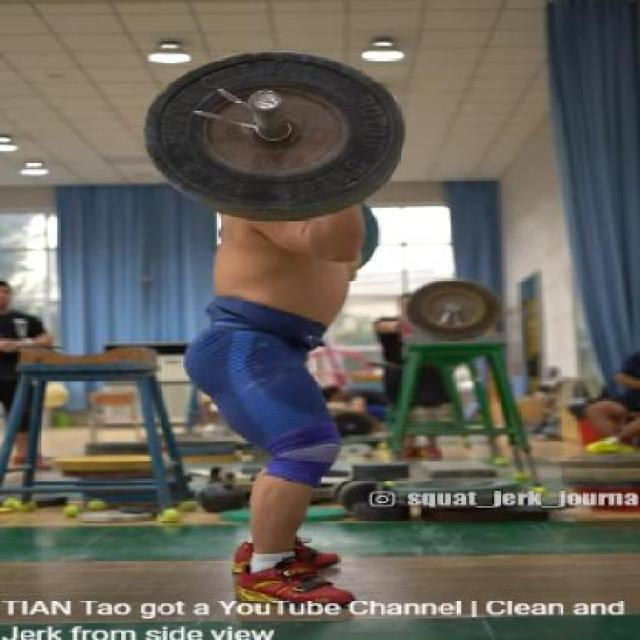barbell: (138, 42, 413, 225)
